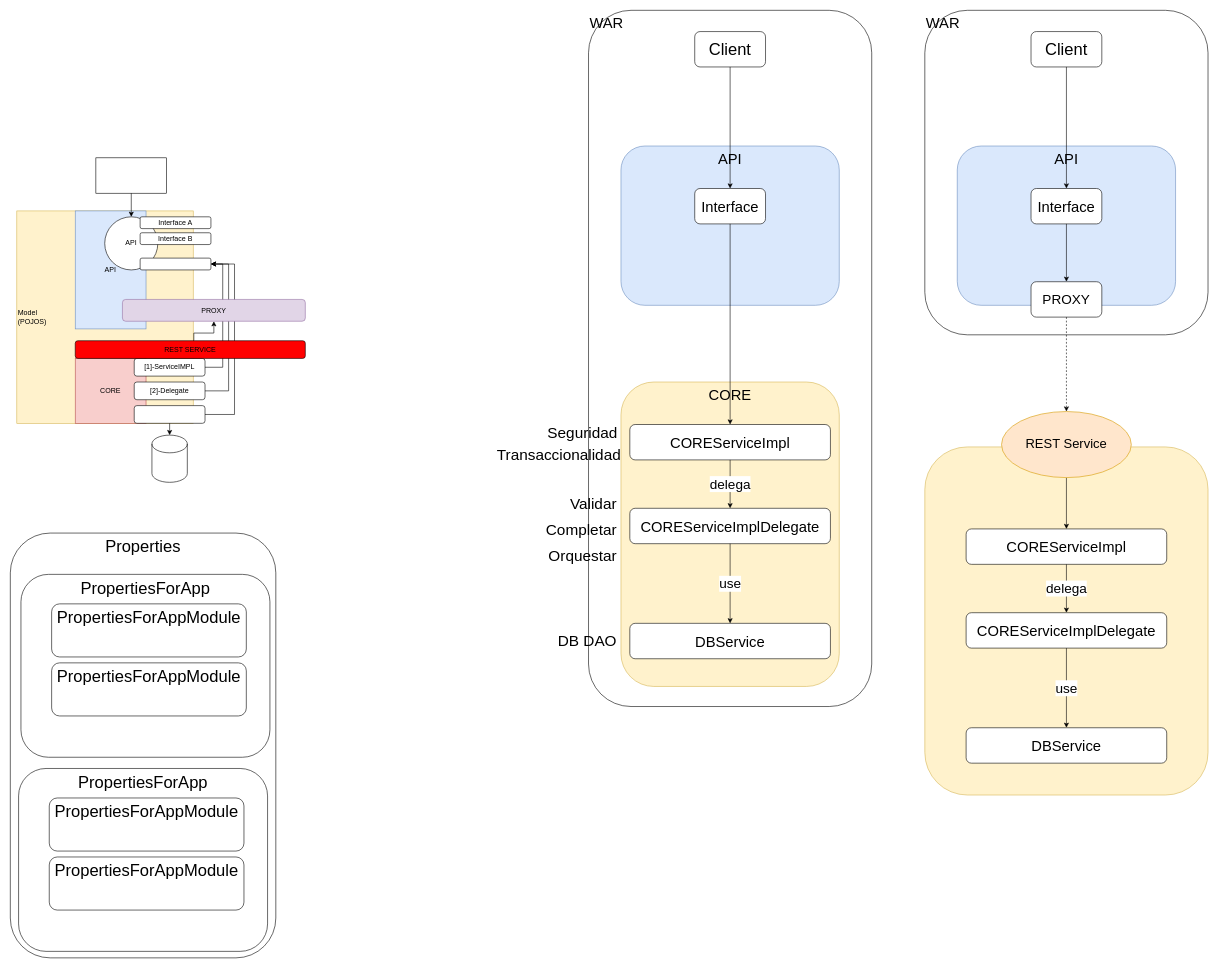
This 1218x968 diagram has some shape labels left out. Each missing label, with the centre of its shape:
"[3]-DAO" goes at (169,414).
"Client (UI / other app / module)" goes at (131,175).
"Interface X" goes at (175,264).
